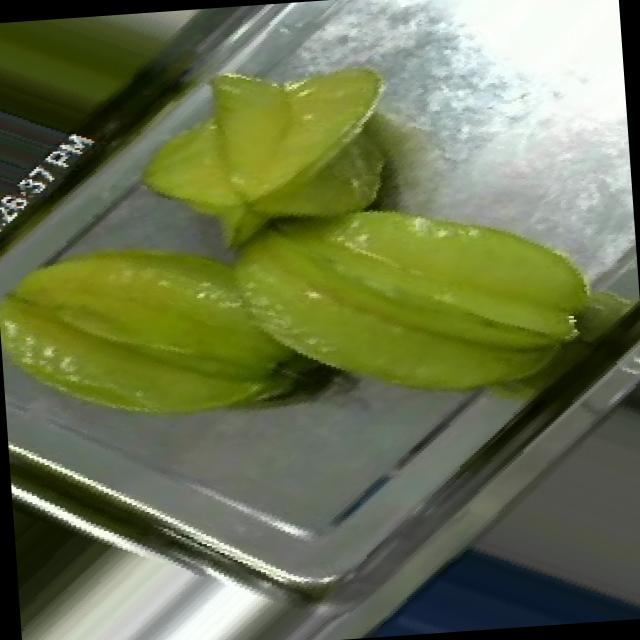fruit: (114, 102, 624, 471), (0, 123, 352, 510), (73, 2, 435, 284)
